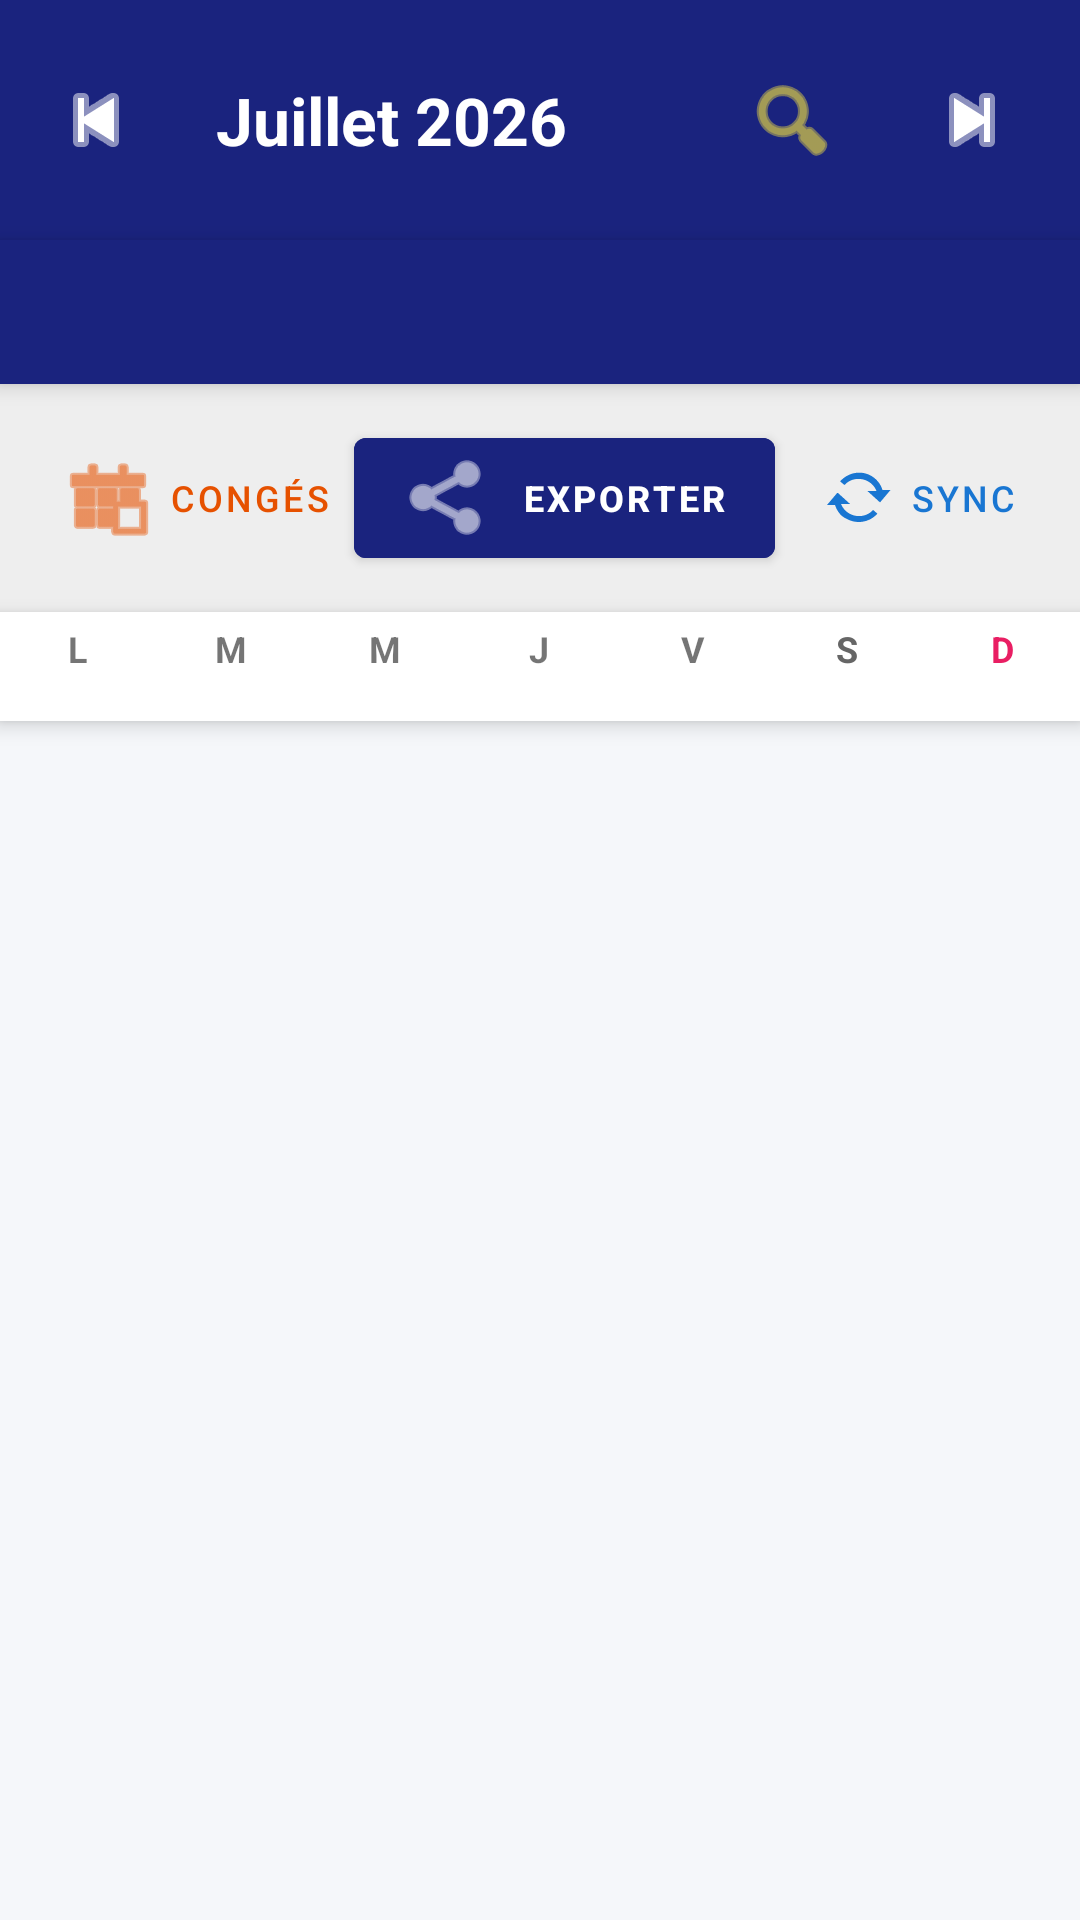

Icon click points for this 1080px x 1920px phone screenshot, format point (x, y):
Mois précédent: point (96, 120)
Mois suivant: point (972, 120)
Moteur de recherche par période: point (792, 120)
